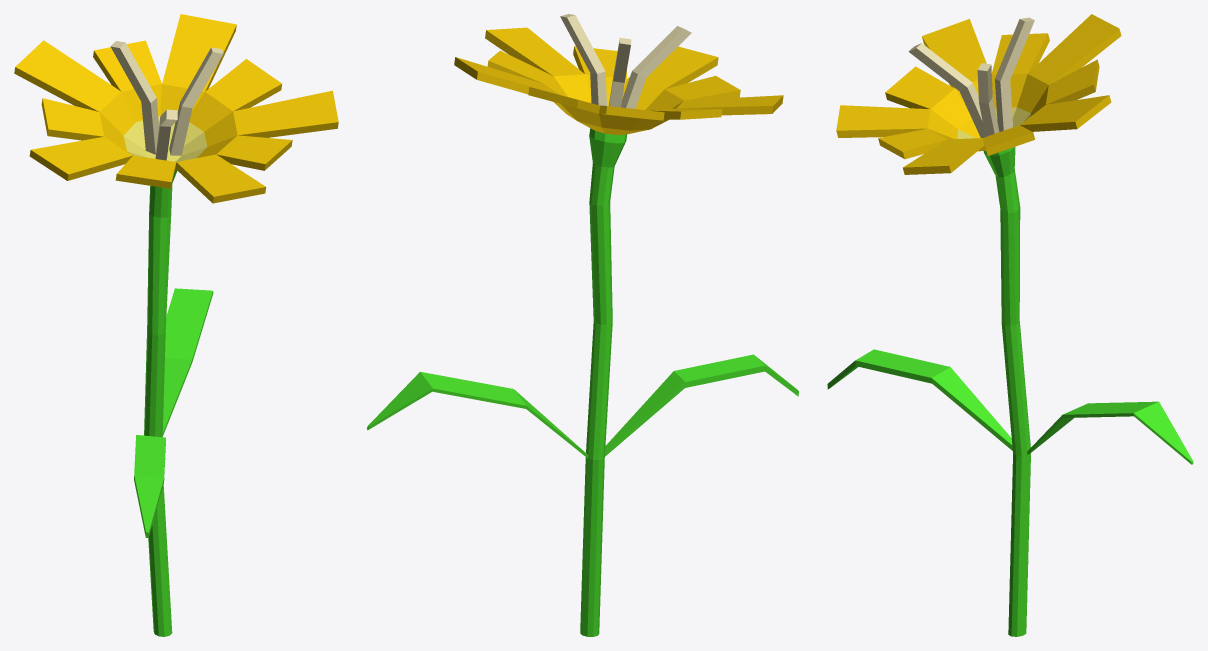
Rendered from FlowerYellow.fbx.
3 renders of one model, left to right at view 1: azimuth 30°, elevation 25°; view 2: azimuth 150°, elevation 25°; view 3: azimuth 270°, elevation 25°, orthographic.
Parts seen in each view (by area): view 1: FlowerYellow01; view 2: FlowerYellow01; view 3: FlowerYellow01.
Boxes of the visible parts, <box> form: FlowerYellow01: <box>14,14,338,636</box>; FlowerYellow01: <box>367,14,798,636</box>; FlowerYellow01: <box>827,14,1193,636</box>.
Size of the model in its own units: 117 by 228 by 127.
